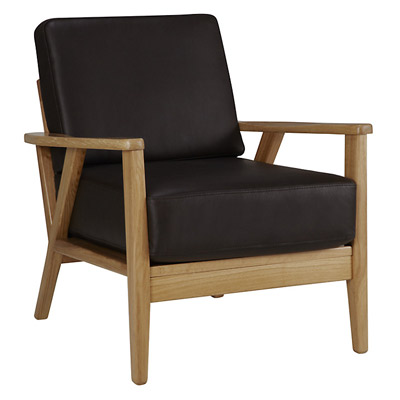chairs: (21, 11, 374, 386)
